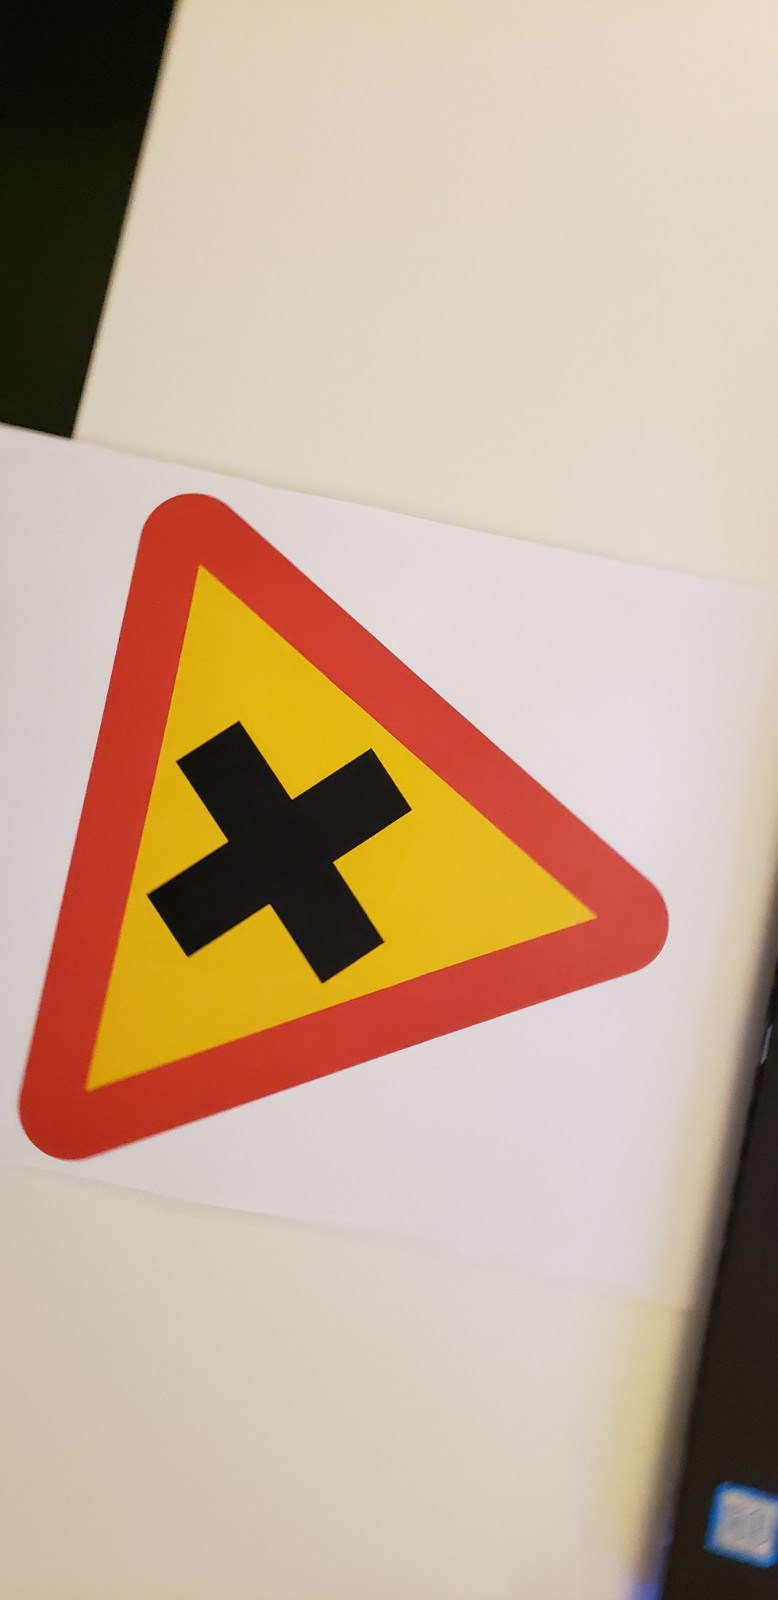junction: (58, 435, 676, 1261)
